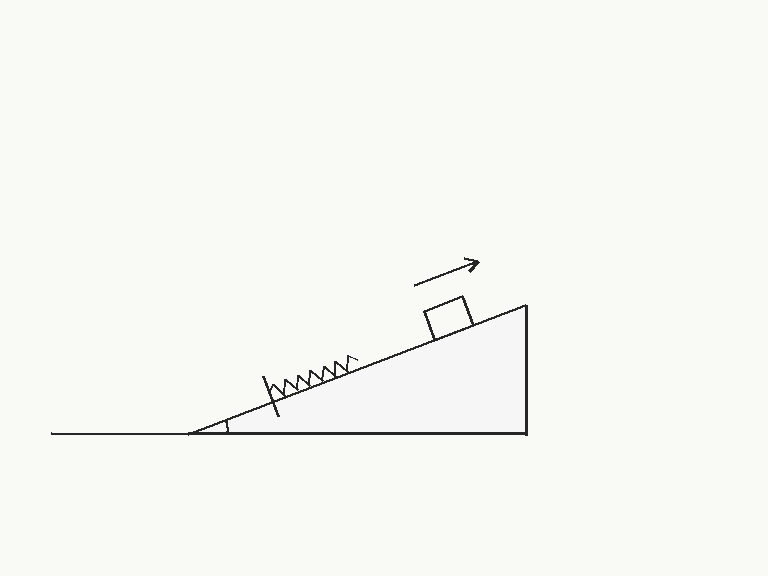block: (421, 294, 475, 341)
ramp: (186, 302, 528, 436)
spring: (267, 353, 359, 397)
